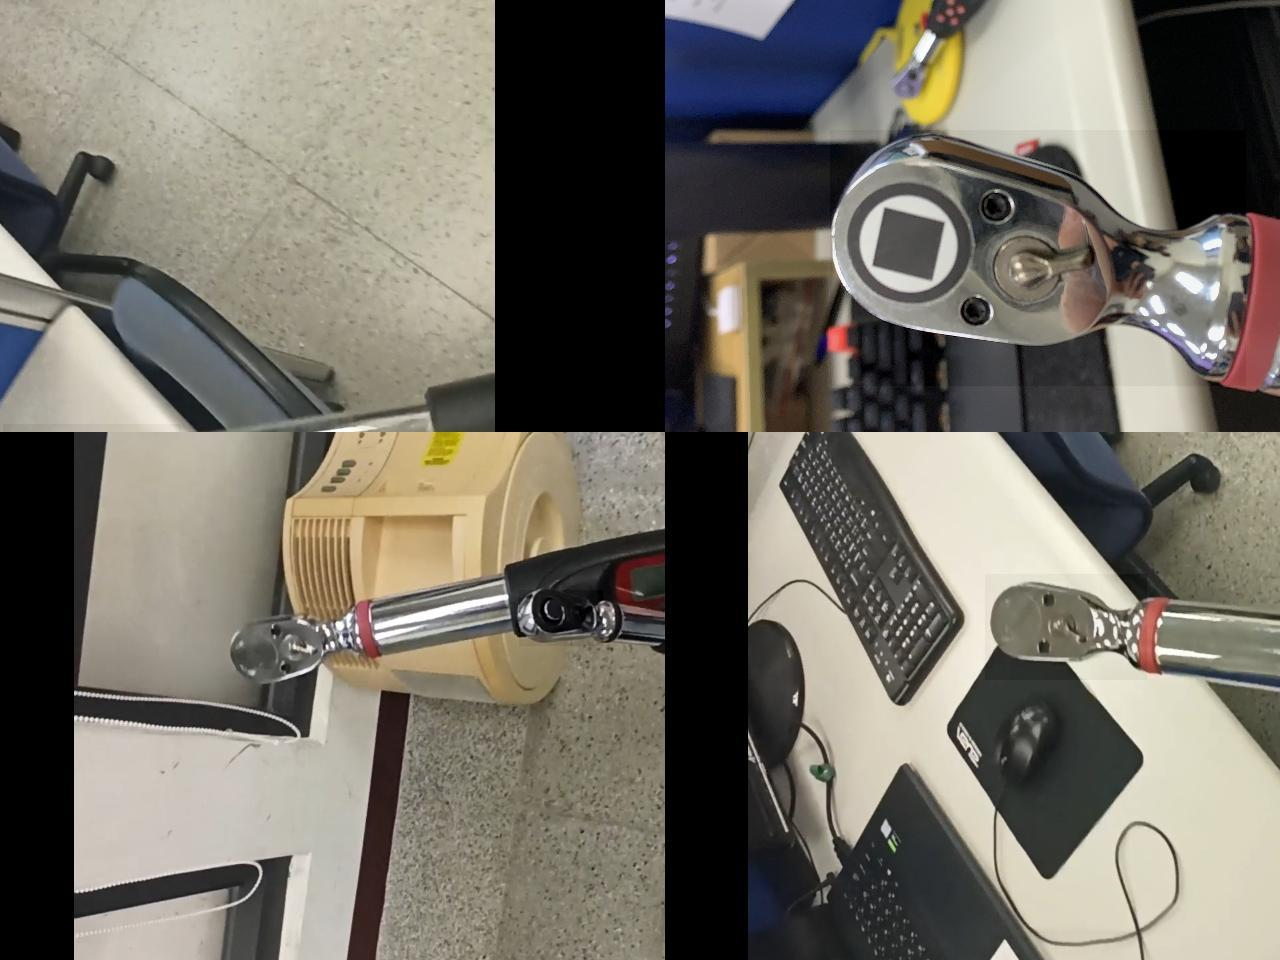Tool: (830, 129, 1246, 385), (985, 573, 1147, 679), (231, 601, 354, 683), (519, 589, 603, 645)
